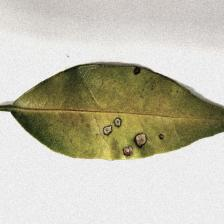canker: (81, 109, 157, 161)
